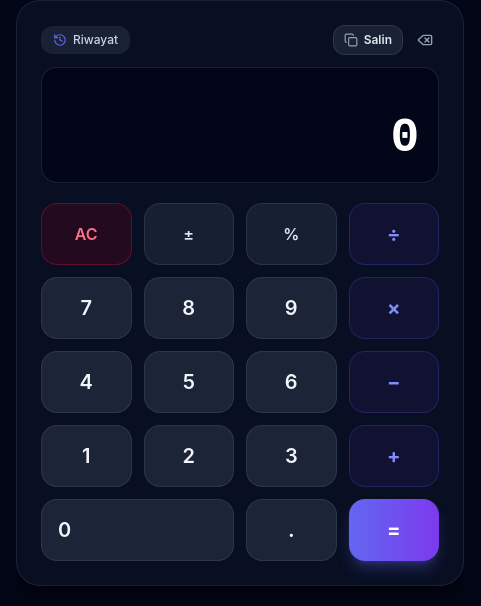
Test case: StandardCalculator Component › performs addition and displays result
The width and height of the screenshot is (481, 606).
Click the button "8" at (189, 308), box [144,277,234,339]
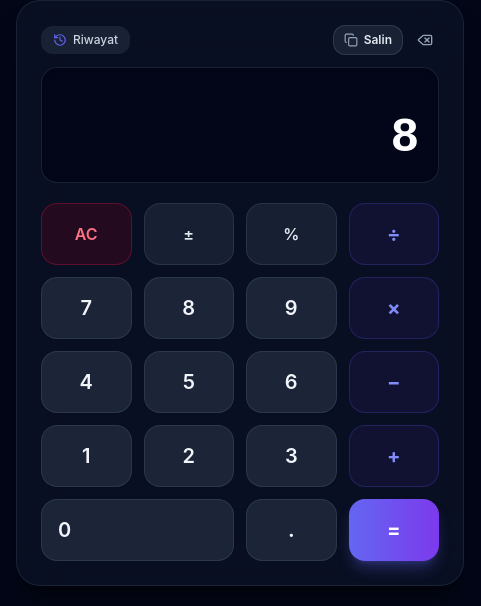
Click the button "+" at (394, 456), box [348,425,439,487]
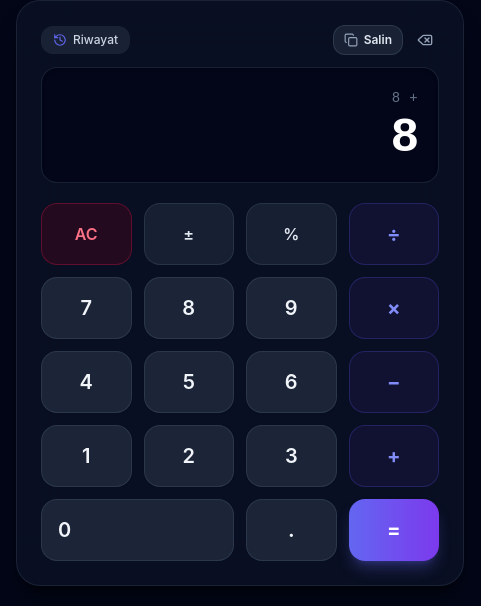
Click the button "2" at (189, 456), box [144,425,234,487]
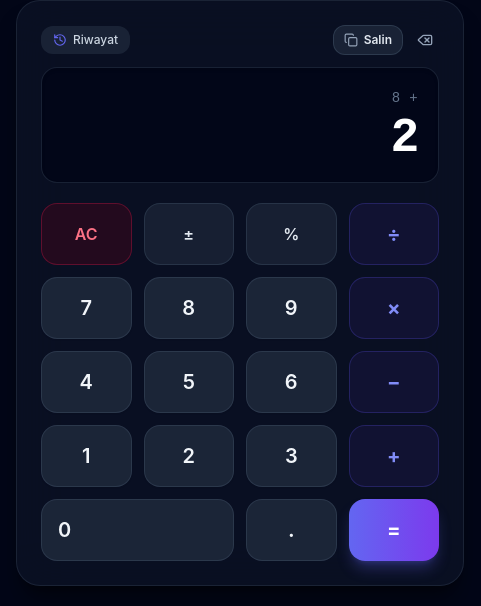
Click the button "=" at (394, 530), box [348,499,439,561]
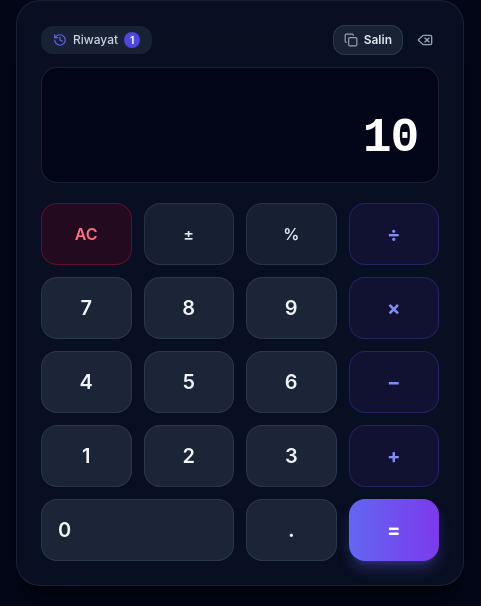
Check: the text "10" is shown, box [363,111,418,165]
